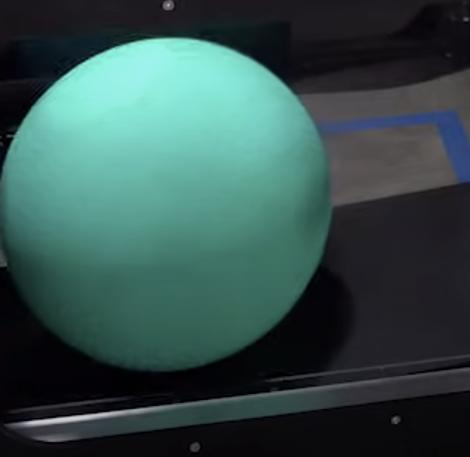algae: (0, 39, 332, 371)
